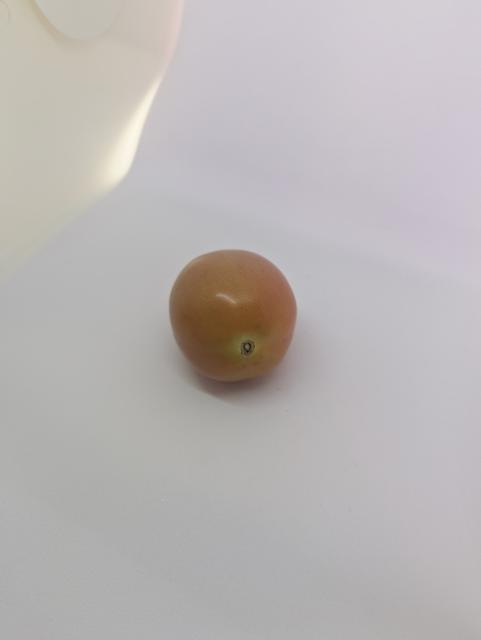turning: (166, 237, 301, 387)
